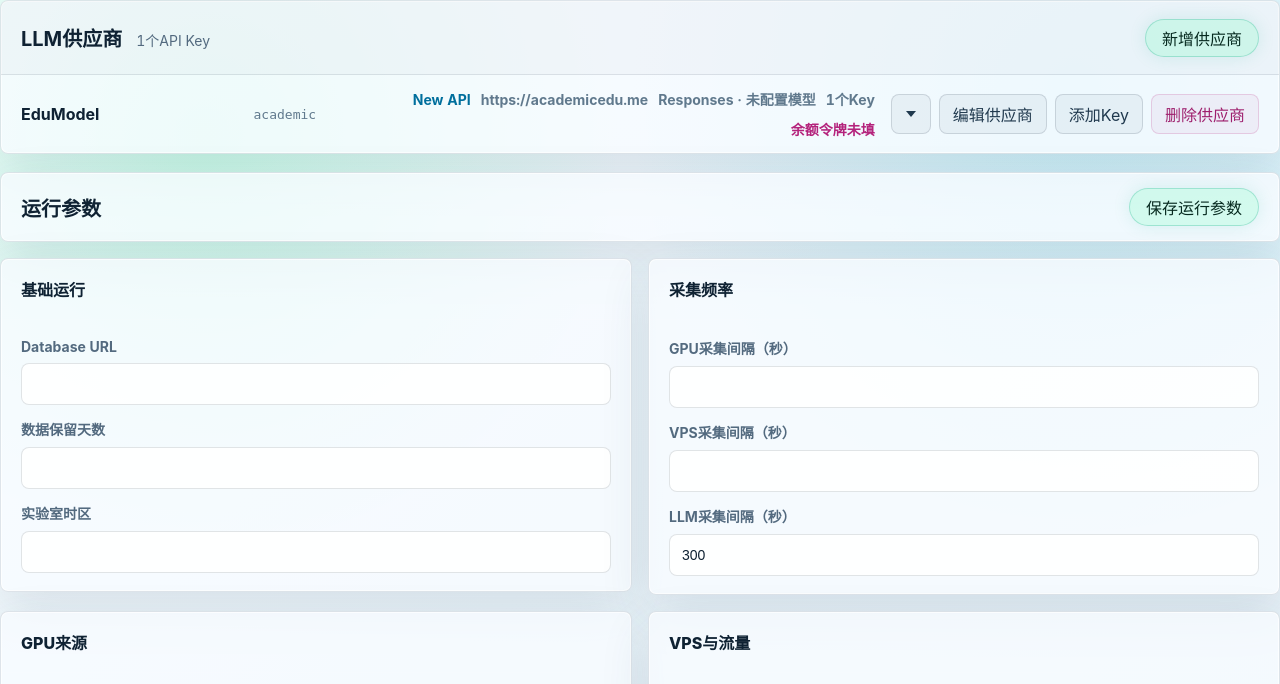
Scenario: Settings LLM供应商配置 › 测试模型缺失时在公共配置区提供配置入口
This screenshot has width=1280, height=684.
What coordinates should you click on to do the following:
click the button named "展开EduModel的Key"
I would click on:
 (911, 114)
Its box is x1=891 y1=94 x2=931 y2=134.
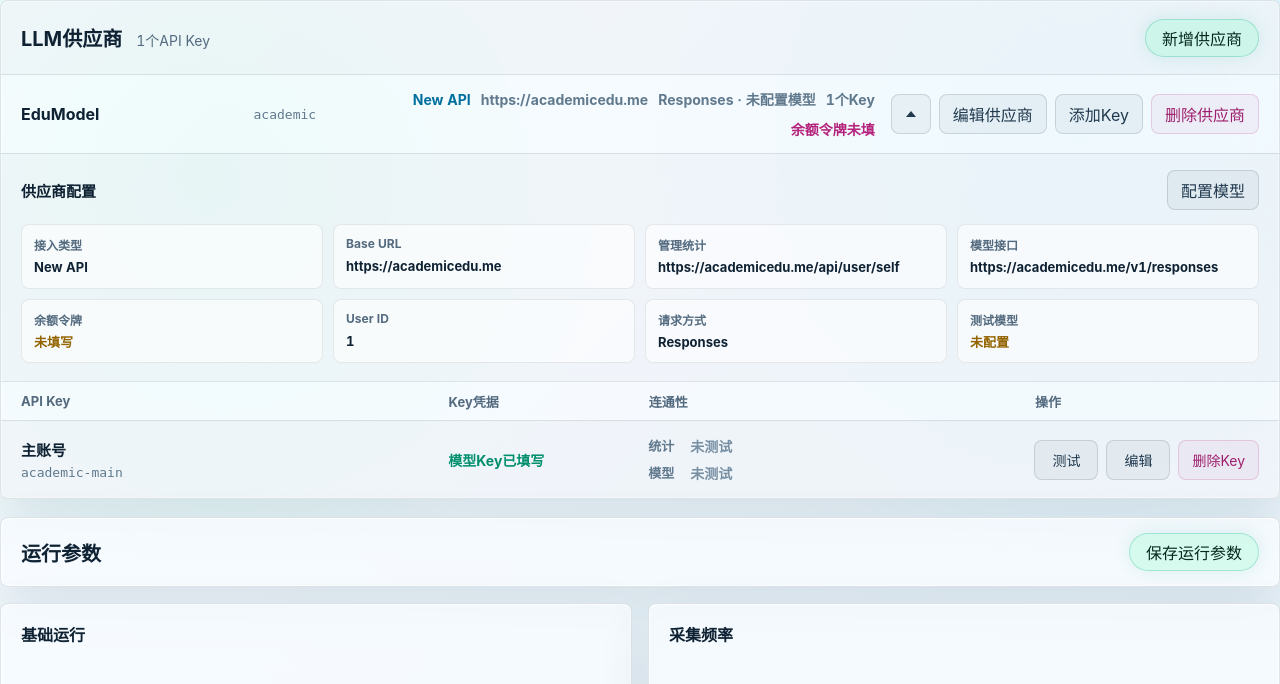
Result: the text "未配置" is shown at x1=970 y1=334 x2=1009 y2=350
What coordinates should you click on to do the following:
click the button "配置模型"
I would click on:
 (1213, 190)
Its box is x1=1167 y1=170 x2=1259 y2=210.
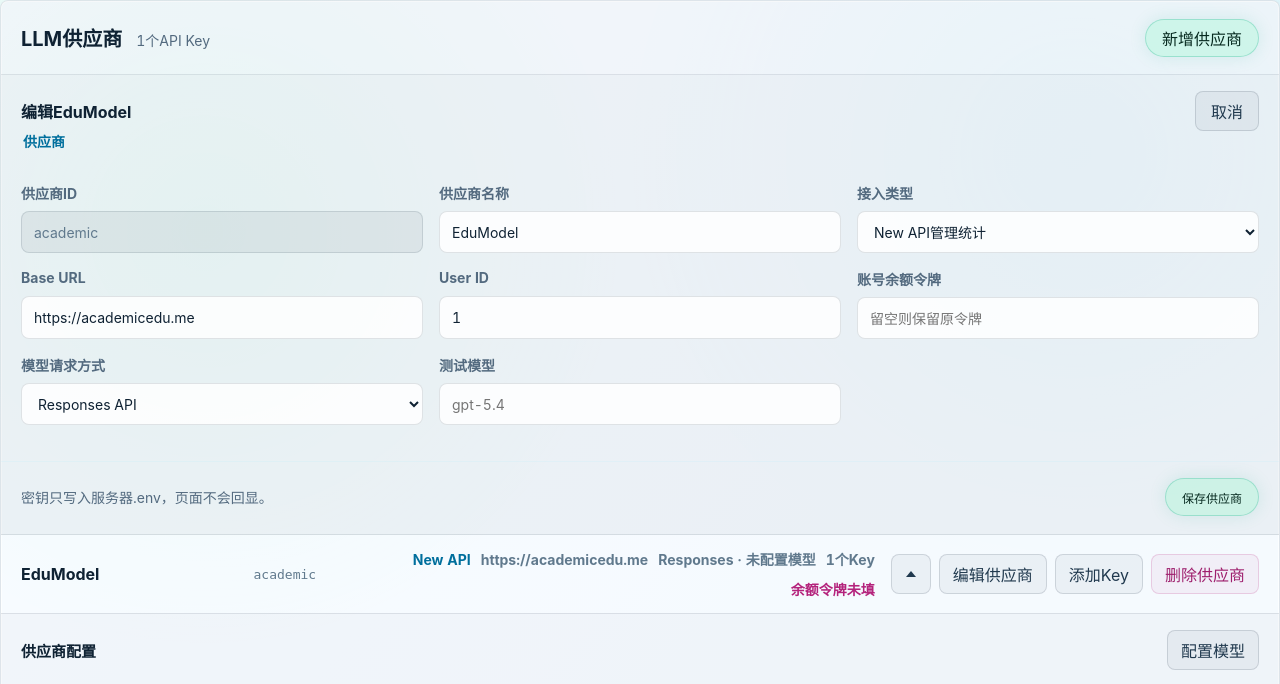
Result: the heading "编辑EduModel" is shown at x1=21 y1=99 x2=132 y2=123
Result: the field labelled "测试模型" is empty at x1=439 y1=383 x2=841 y2=425
